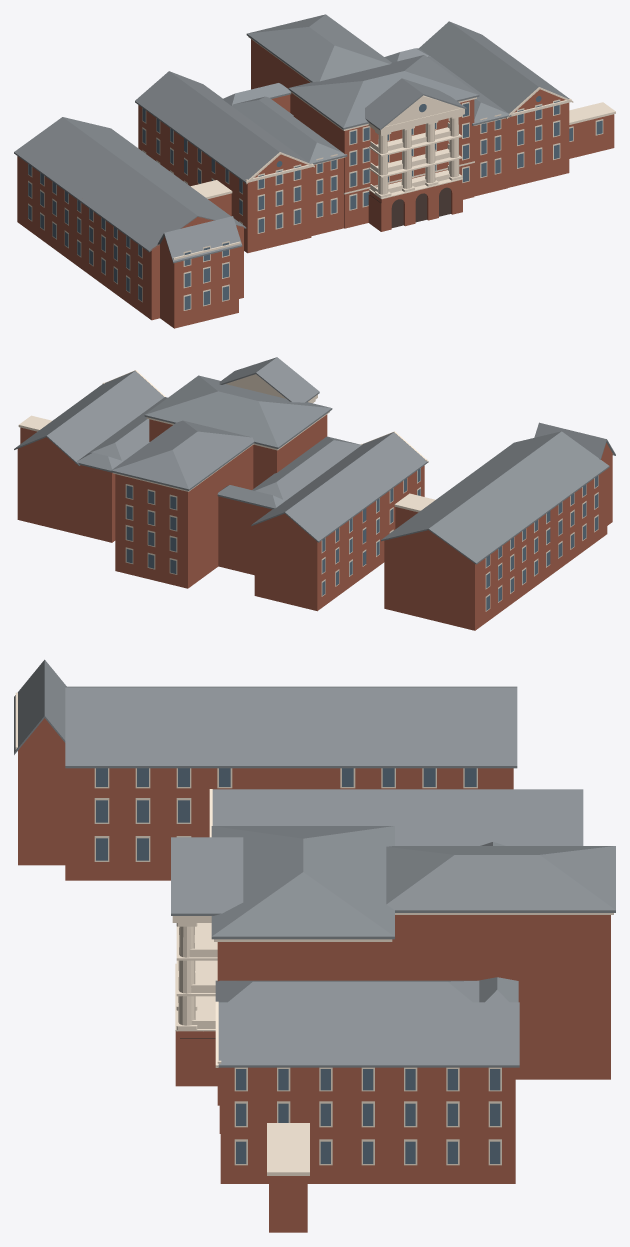
The model's file is ral-peace-main-building.glb.
The picture shows the model from 3 angles, top to bottom: view 1: azimuth 30°, elevation 25°; view 2: azimuth 150°, elevation 25°; view 3: azimuth 270°, elevation 25°; orthographic projection. The views are drawn at different scales.
Parts seen in each view (by area): view 1: Main Building, William Peace University; view 2: Main Building, William Peace University; view 3: Main Building, William Peace University.
Boxes of the visible parts, x1,y1,x2,y2 form: Main Building, William Peace University: (14, 14, 615, 328); Main Building, William Peace University: (14, 357, 615, 630); Main Building, William Peace University: (14, 659, 615, 1232).
Bounding box in the file's own units: 99.35 × 23.25 × 58.8.
